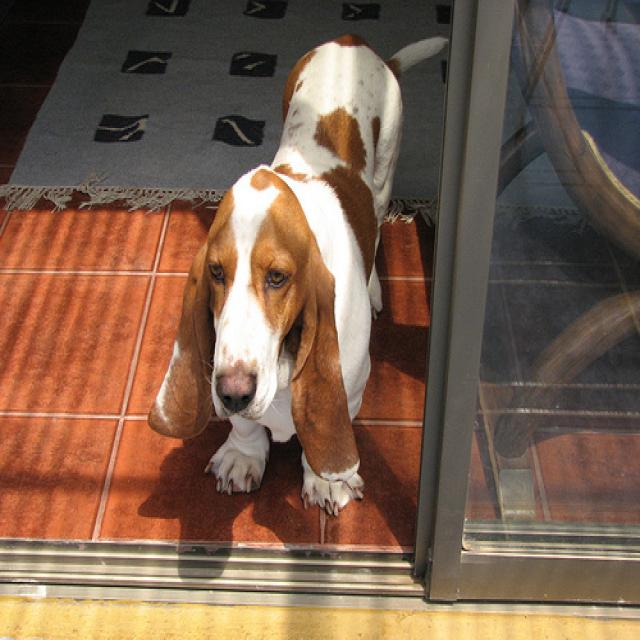dog-basset_hound: (141, 22, 452, 527)
